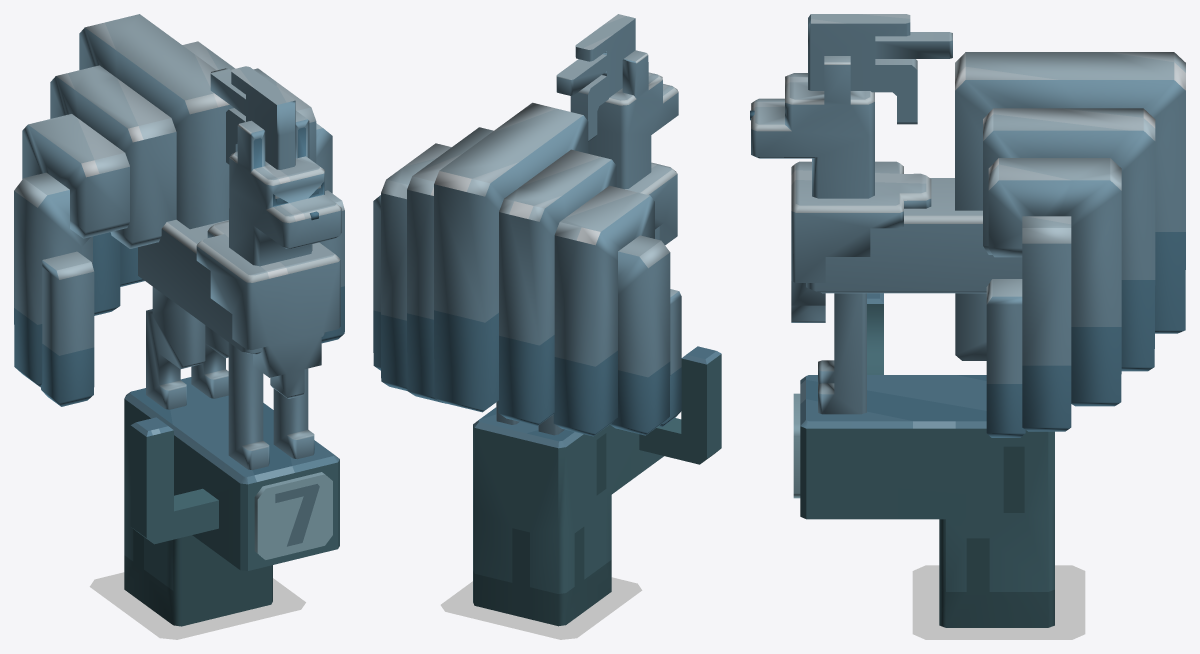
Rendered from G_makeover_S_PVP7_3.fbx.
3 renders of one model, left to right at view 1: azimuth 30°, elevation 25°; view 2: azimuth 150°, elevation 25°; view 3: azimuth 270°, elevation 25°, orthographic. The views are drawn at different scales.
Visible parts, largest first — view 1: kyukon, ground; view 2: kyukon, ground; view 3: kyukon, ground.
Part boxes in pixels (x1,y1,x2,y2): kyukon: (14, 14, 344, 626); ground: (89, 572, 305, 639); kyukon: (373, 14, 721, 626); ground: (440, 577, 642, 639); kyukon: (750, 14, 1185, 627); ground: (912, 565, 1085, 639).
Bounding box in the file's own units: 4.33 × 7.82 × 5.3.
